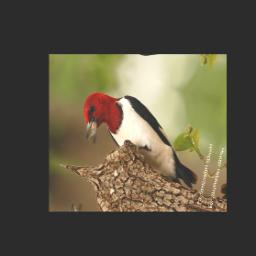Woodpecker: (75, 82, 211, 190)
